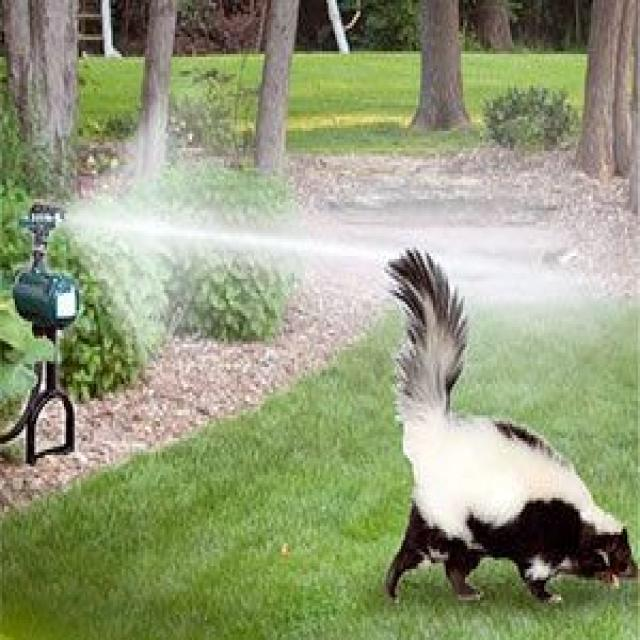Skunk: (350, 240, 638, 619)
